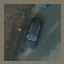car: (25, 20, 42, 49)
